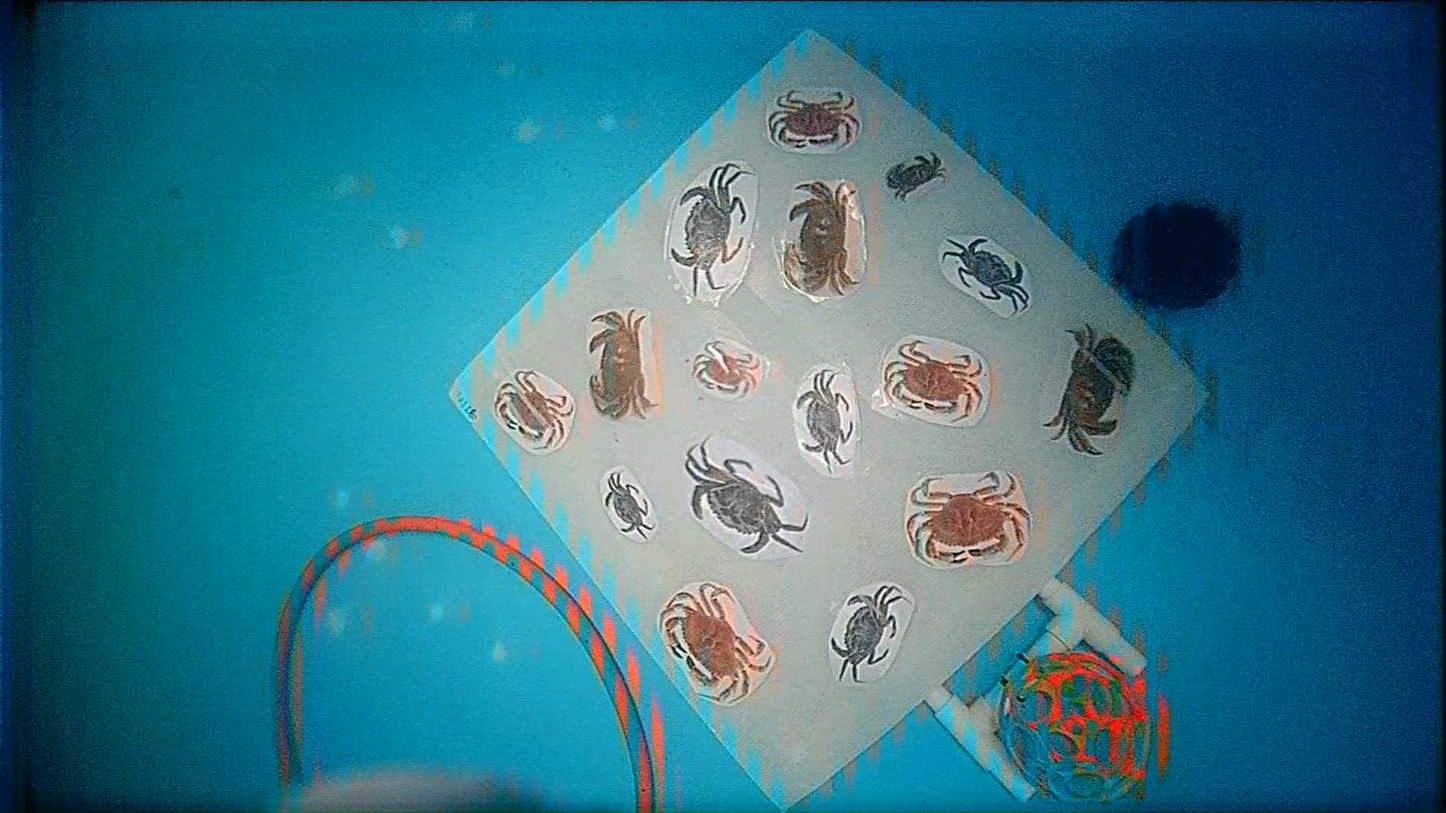GreenCrab: (685, 442, 807, 554), (669, 163, 751, 295), (830, 586, 903, 682), (942, 237, 1028, 312), (795, 371, 852, 471), (605, 472, 653, 538)
